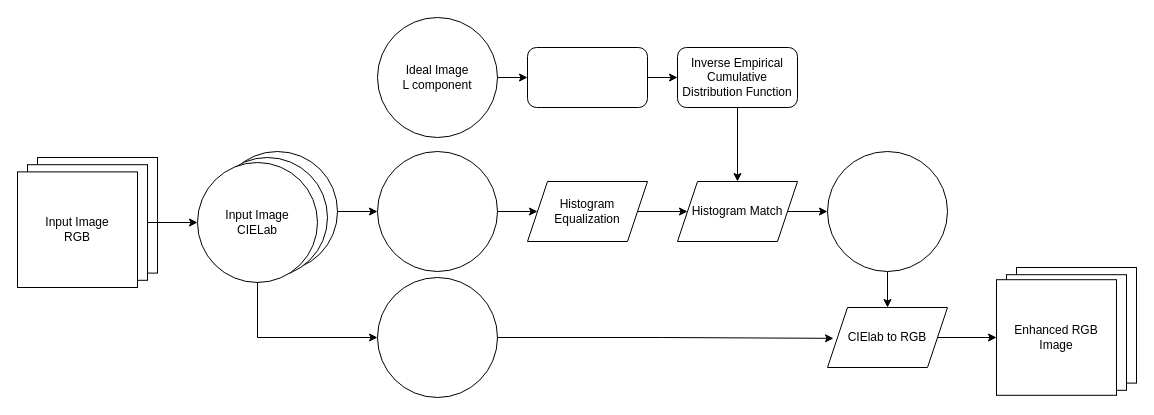
Image size: 1154x415. Some labels were removed from this diagram. Here are the shapes that lost their labels. From the top down, the box of each, then its label:
(526, 46, 648, 108): Histogram
(376, 150, 498, 272): Input Image L component
(826, 150, 948, 272): Matched L component
(376, 276, 498, 398): Input Image a and b components
